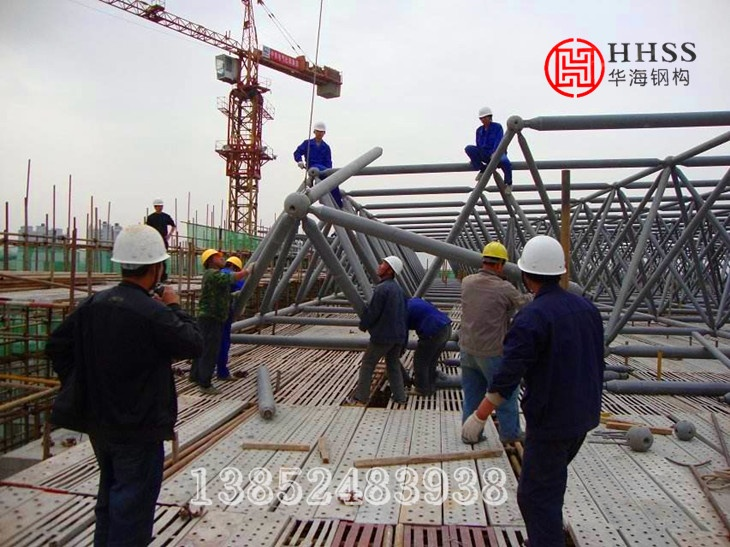white: (110, 221, 164, 289), (516, 234, 567, 292), (375, 253, 402, 283), (477, 104, 495, 125), (310, 119, 328, 139), (152, 195, 164, 212)
yellow: (477, 239, 508, 274), (198, 247, 223, 273), (225, 254, 242, 274)
